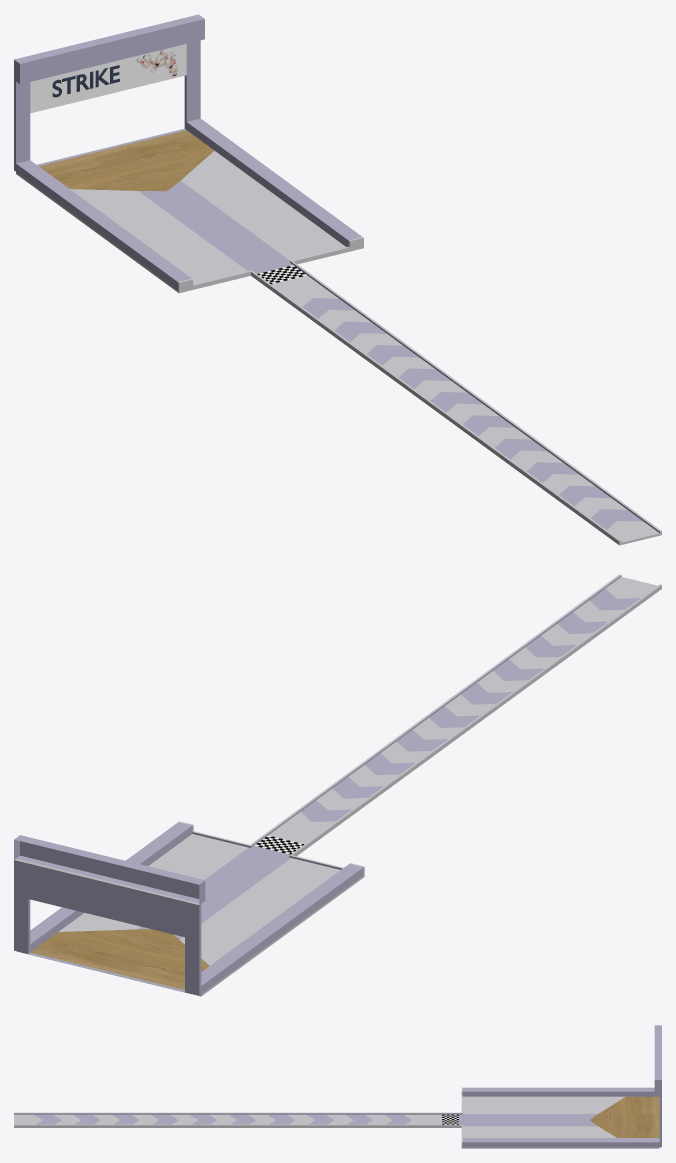
File: Path2.fbx
The picture shows the model from 3 angles, top to bottom: view 1: azimuth 30°, elevation 25°; view 2: azimuth 150°, elevation 25°; view 3: azimuth 270°, elevation 25°; orthographic projection. The views are drawn at different scales.
Visible parts, largest first — view 1: Path, Path.002, Finish, Path.001; view 2: Path, Path.002, Finish, Path.001; view 3: Path, Path.002, Path.001, Finish.
Boxes of the visible parts, x1,y1,x2,y2 form: Path: (16,118,363,293); Path.002: (251,261,661,545); Finish: (14,14,204,171); Path.001: (39,130,214,191); Path: (16,821,364,996); Path.002: (250,574,661,856); Finish: (14,835,205,995); Path.001: (30,929,209,990); Path: (461,1087,659,1148); Path.002: (14,1112,461,1127); Path.001: (590,1096,659,1137); Finish: (654,1025,661,1147).
Size of the model in its own units: 13.04 by 7.62 by 65.22.
7 materials, 2 textured.
